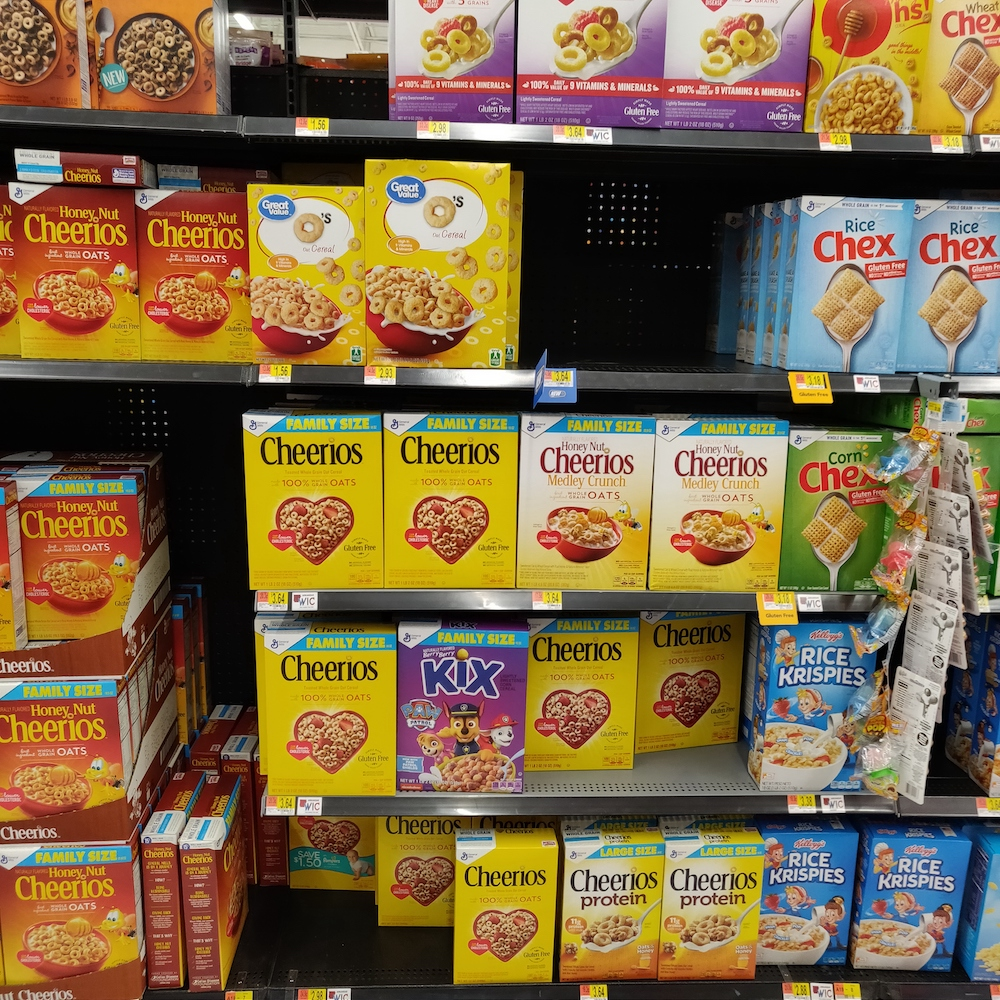Kix Berry -568919964: (401, 641, 529, 793)
